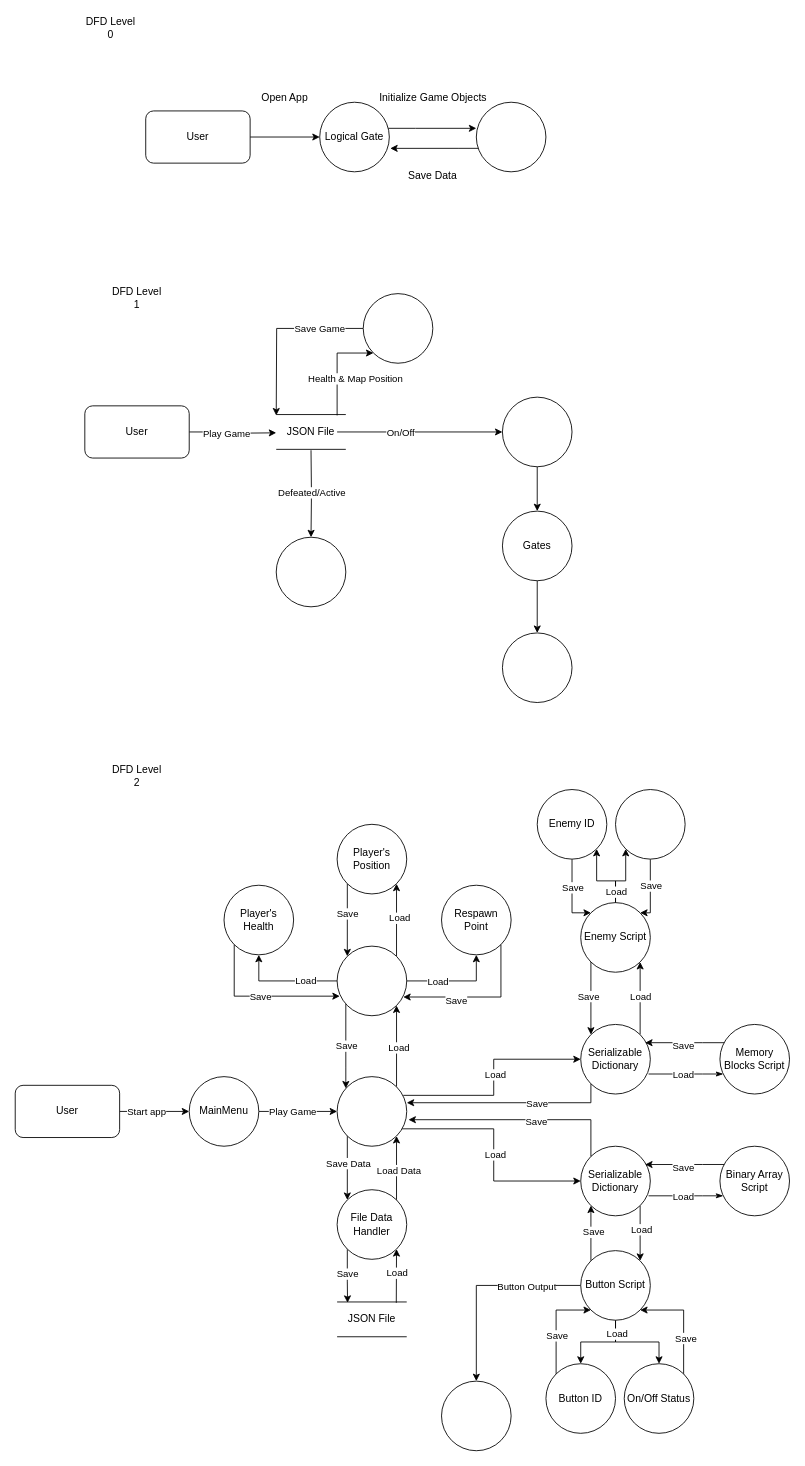
Some shapes in this 805 by 1466 pixel diagram are drawn without their labels. Each missing label, with the centre of its shape:
"Buttons" goes at [537,431].
"Character" goes at [397,328].
"Connected Objects" goes at [476,1415].
"Data Persistence Manager" goes at [371,1111].
"Dead/Alive Status" goes at [650,824].
"Doors" goes at [537,667].
"Enemies" goes at [310,571].
"Level and Game Objects" goes at [510,136].
"Player Script" goes at [371,980].
